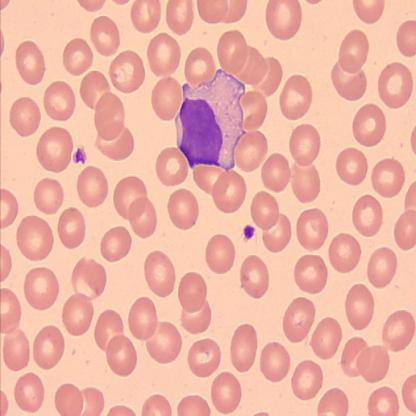Atypical lymphocyte: (172, 67, 247, 170)
